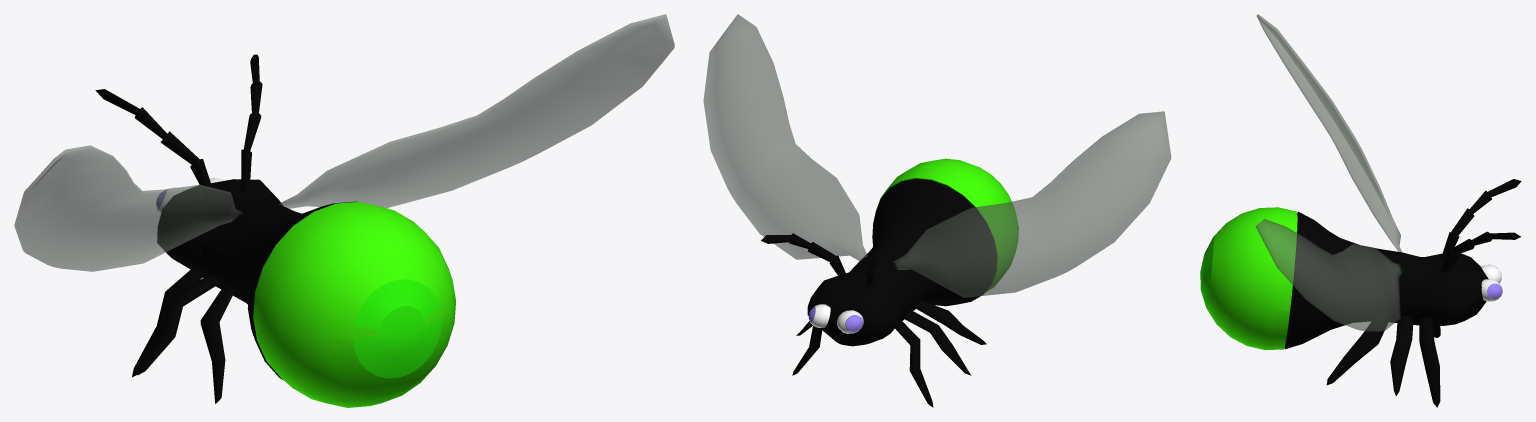
3 renders of one model, left to right at view 1: azimuth 30°, elevation 25°; view 2: azimuth 150°, elevation 25°; view 3: azimuth 270°, elevation 25°, orthographic. The views are drawn at different scales.
Parts seen in each view (by area): view 1: Alas, Luz, Cuerpo; view 2: Alas, Cuerpo, Luz, Esclerotica; view 3: Cuerpo, Alas, Luz, Esclerotica.
Boxes of the visible parts, left/top/right/bottom form: Alas: left=14, top=14, right=674, bottom=271; Luz: left=253, top=201, right=456, bottom=407; Cuerpo: left=95, top=54, right=356, bottom=403; Alas: left=703, top=14, right=1171, bottom=297; Cuerpo: left=761, top=178, right=997, bottom=407; Luz: left=875, top=158, right=1018, bottom=292; Esclerotica: left=810, top=304, right=863, bottom=333; Cuerpo: left=1284, top=179, right=1521, bottom=407; Alas: left=1255, top=14, right=1402, bottom=331; Luz: left=1200, top=207, right=1297, bottom=350; Esclerotica: left=1481, top=265, right=1502, bottom=301.
Bounding box in the file's own units: 7.26 × 3.99 × 4.47.
